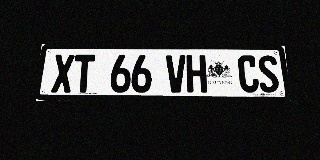6: (110, 55, 131, 93), (131, 55, 152, 93)
C: (237, 55, 260, 93)
H: (186, 55, 207, 93)
S: (257, 55, 280, 93)
T: (73, 54, 95, 93)
V: (166, 55, 186, 93)
X: (51, 54, 75, 93)
